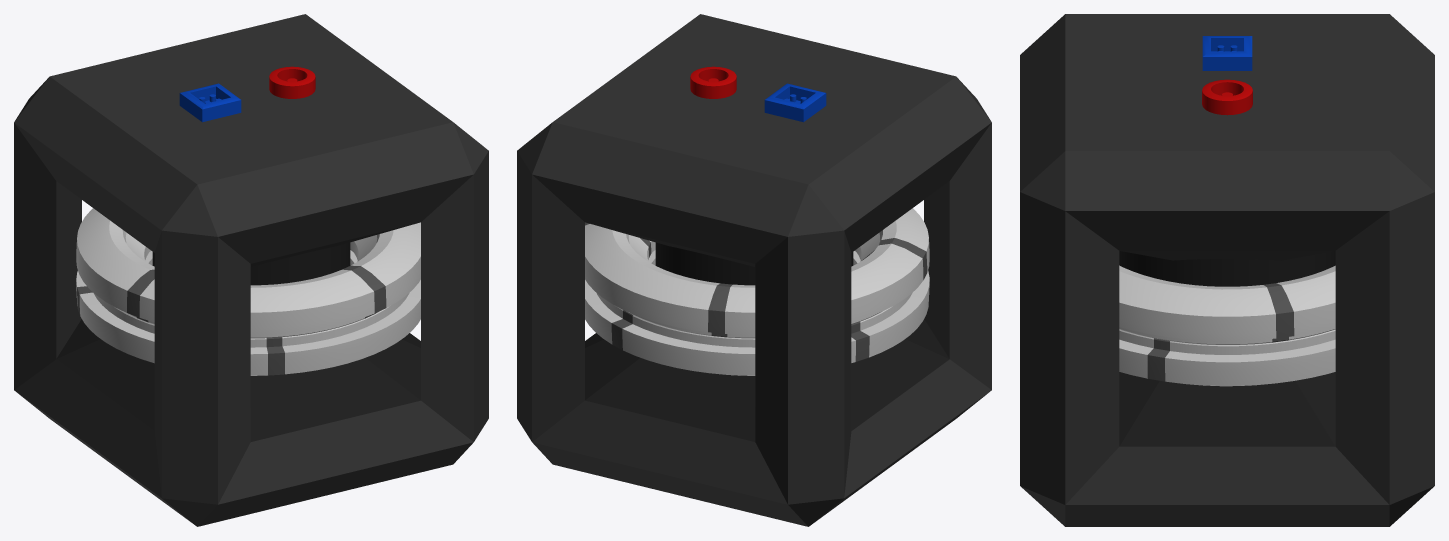
The model's file is SmallGyroscope.gltf.
3 renders of one model, left to right at view 1: azimuth 30°, elevation 25°; view 2: azimuth 150°, elevation 25°; view 3: azimuth 270°, elevation 25°, orthographic. The views are drawn at different scales.
Parts seen in each view (by area): view 1: base, Torus2, Torus1; view 2: base, Torus2, Torus1; view 3: base, Torus2, Torus1.
Part boxes in pixels (x1,y1,x2,y2): base: (14, 14, 488, 526); Torus2: (76, 208, 420, 338); Torus1: (76, 249, 420, 375); base: (517, 14, 991, 526); Torus2: (585, 208, 929, 338); Torus1: (585, 249, 929, 375); base: (1020, 14, 1434, 526); Torus2: (1119, 265, 1335, 344); Torus1: (1119, 329, 1335, 386).
Size of the model in its own units: 0.5 by 0.5206 by 0.5.
